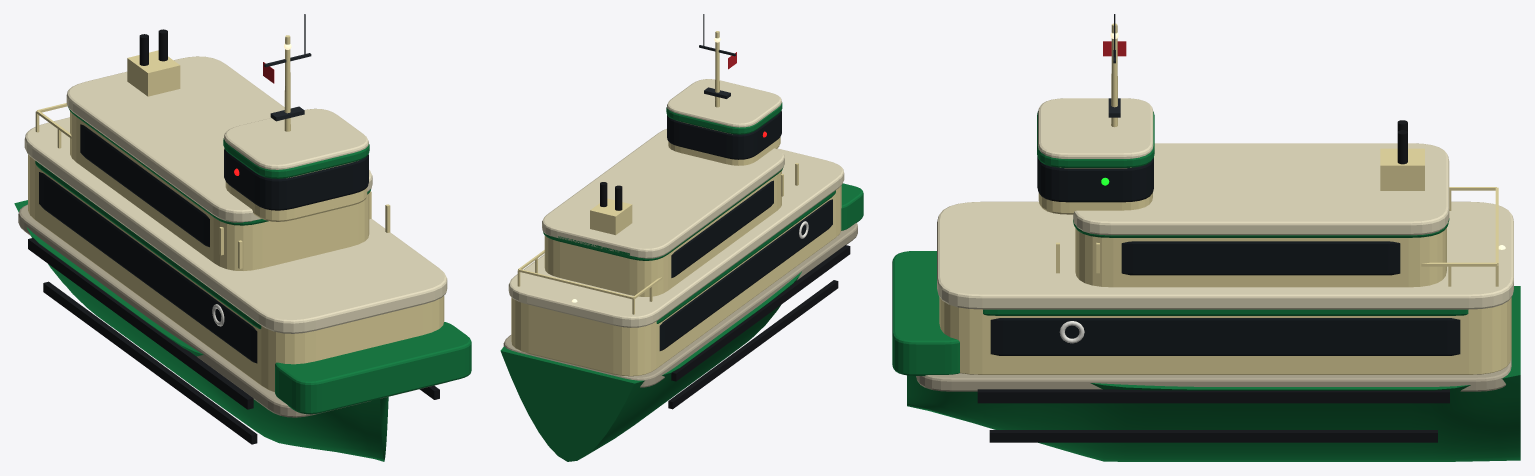
The model's file is ferry.glb.
The picture shows the model from 3 angles, left to right: view 1: azimuth 30°, elevation 25°; view 2: azimuth 150°, elevation 25°; view 3: azimuth 270°, elevation 25°; orthographic projection. The views are drawn at different scales.
Parts seen in each view (by area): view 1: roof, cabin, hull, glass, black, deckf, trim, frame, dark; view 2: roof, cabin, hull, glass, black, deckf, trim, frame; view 3: roof, hull, glass, cabin, black, deckf, trim, frame.
Part boxes in pixels (bbox=[...]): roof: bbox=[24, 56, 447, 333]; cabin: bbox=[28, 35, 444, 392]; hull: bbox=[14, 200, 471, 461]; glass: bbox=[39, 124, 368, 363]; black: bbox=[28, 29, 439, 444]; deckf: bbox=[18, 204, 446, 417]; trim: bbox=[35, 106, 370, 328]; frame: bbox=[35, 103, 390, 268]; dark: bbox=[264, 14, 311, 121]; roof: bbox=[508, 79, 844, 327]; cabin: bbox=[511, 31, 841, 376]; hull: bbox=[500, 183, 863, 461]; glass: bbox=[659, 110, 832, 350]; black: bbox=[600, 182, 850, 409]; deckf: bbox=[503, 223, 857, 387]; trim: bbox=[543, 102, 835, 323]; frame: bbox=[517, 163, 798, 314]; roof: bbox=[937, 98, 1513, 309]; hull: bbox=[892, 251, 1520, 461]; glass: bbox=[990, 156, 1460, 355]; cabin: bbox=[939, 23, 1511, 374]; black: bbox=[977, 120, 1449, 442]; deckf: bbox=[916, 358, 1511, 391]; trim: bbox=[983, 111, 1468, 315]; frame: bbox=[1056, 187, 1498, 370].
Size of the model in its own units: 10.92 by 21.2 by 26.62.
